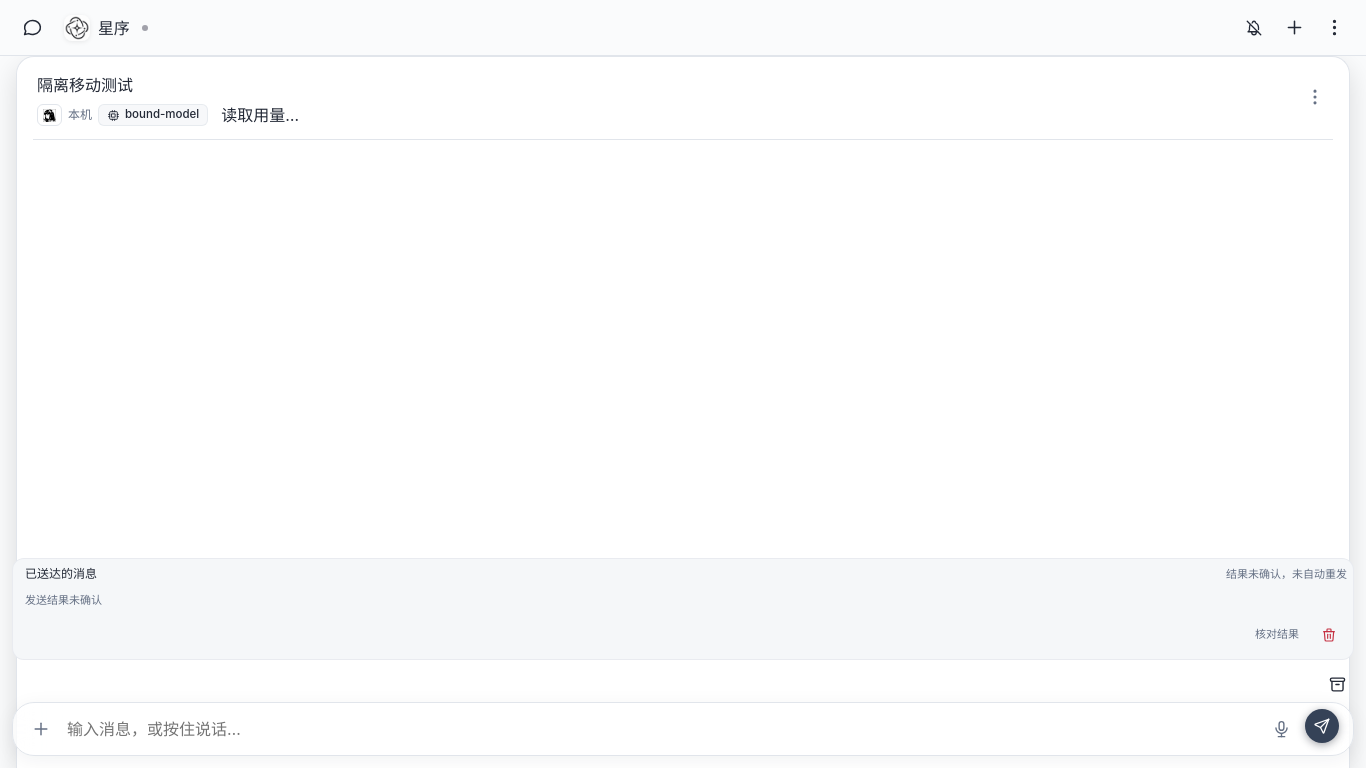
independent mobile composer › removes an unknown server queue record without sending it again
Click the button named "删除".
click(1329, 635)  # box [1311,617,1347,653]
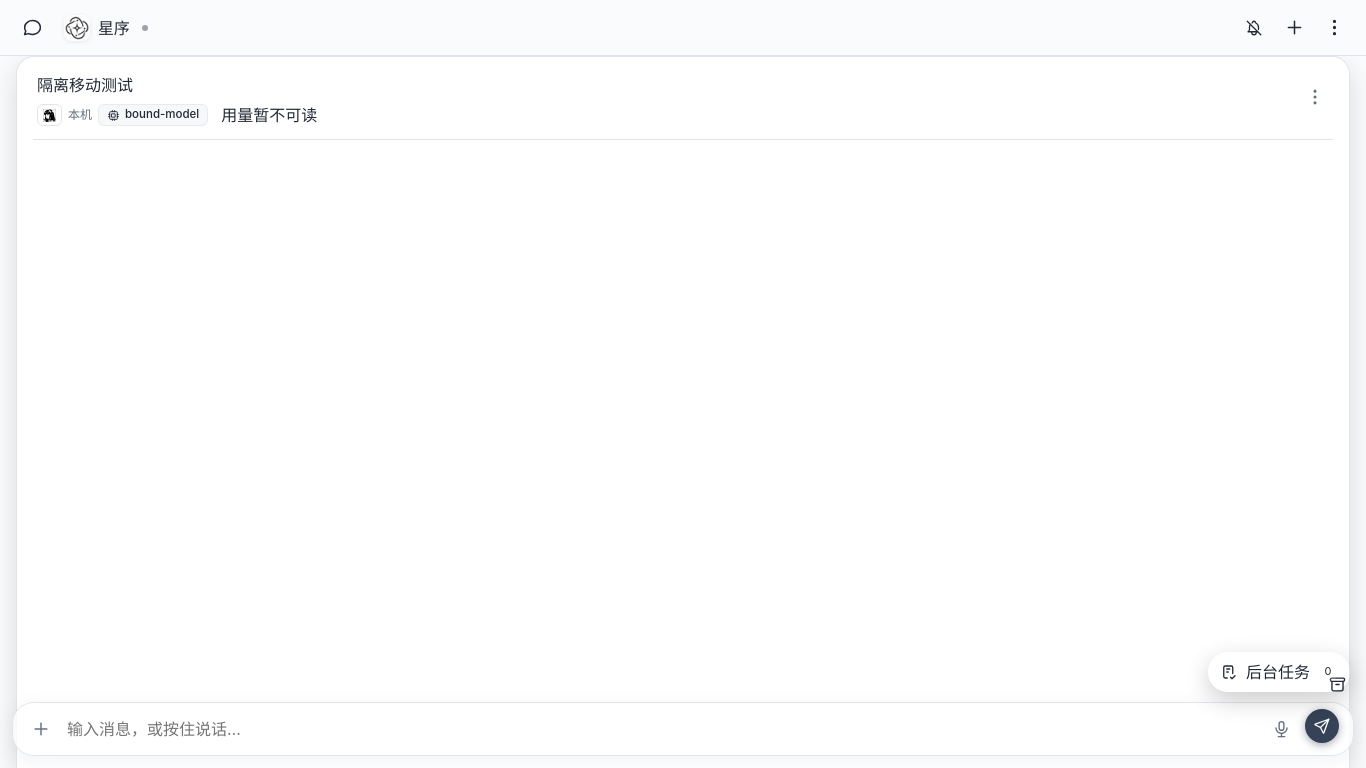
Expected: the field labelled "排队消息" is gone
